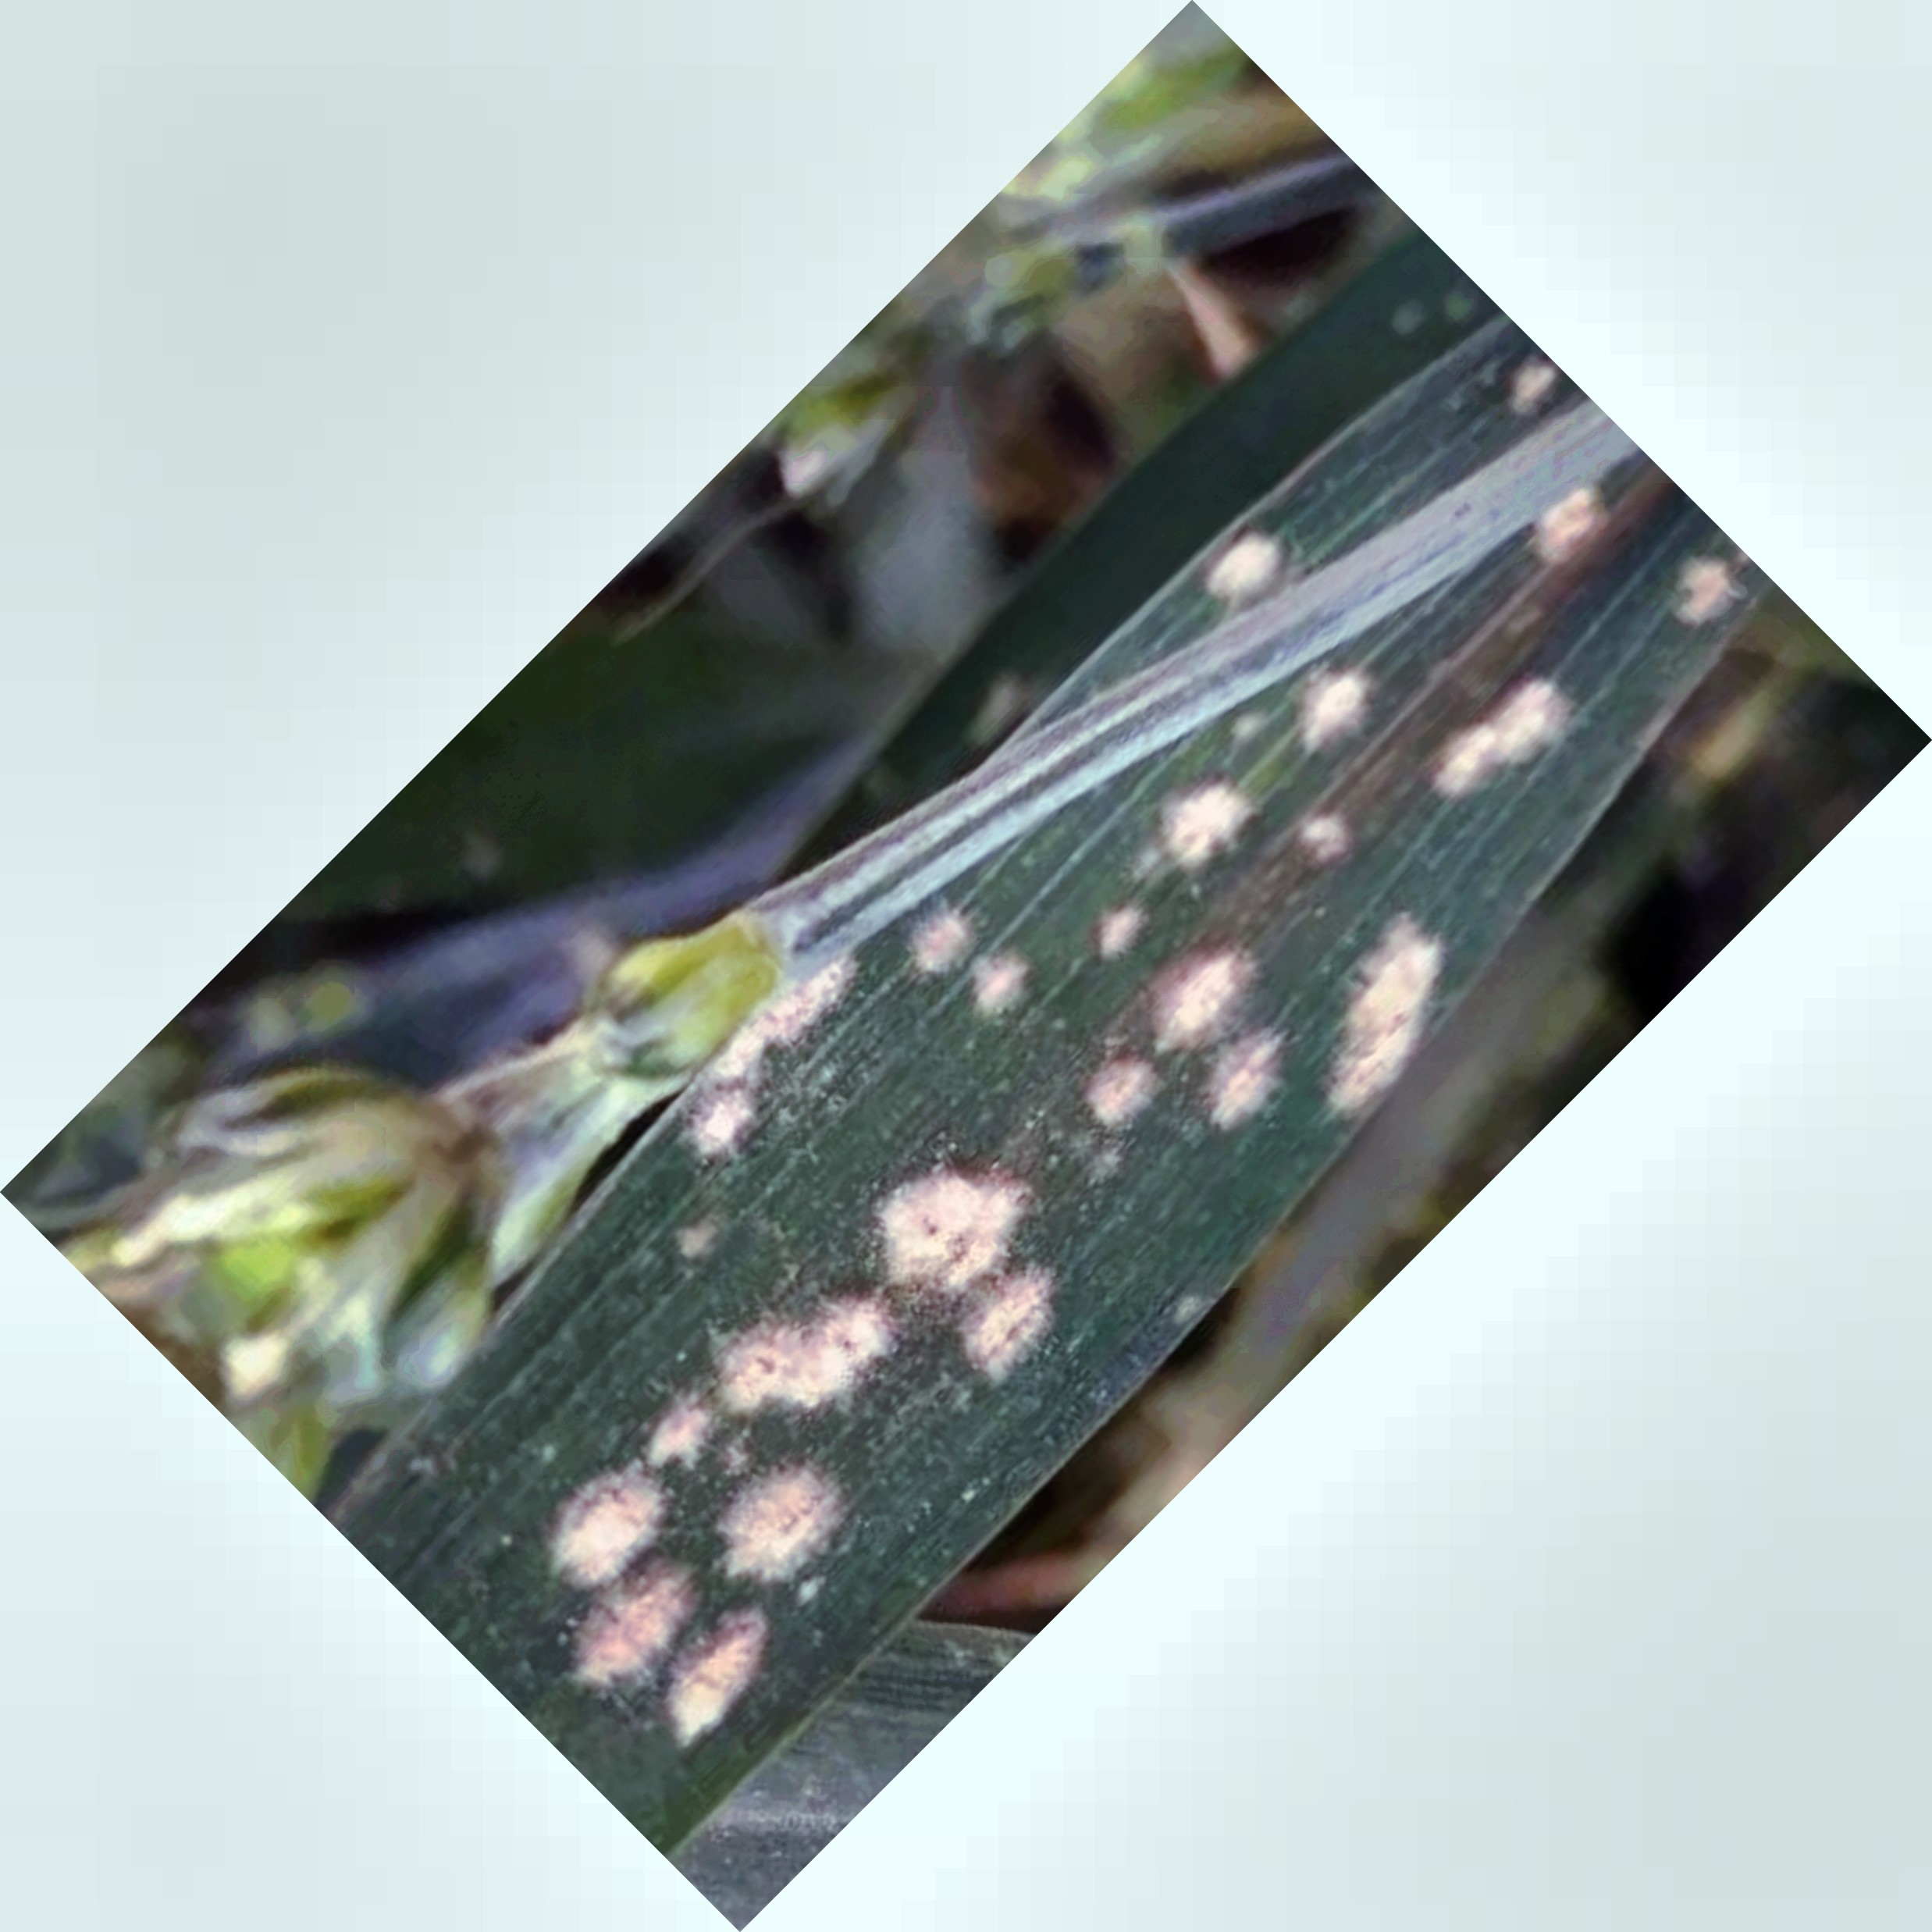Powdery Mildew: (566, 603, 1557, 1725)
